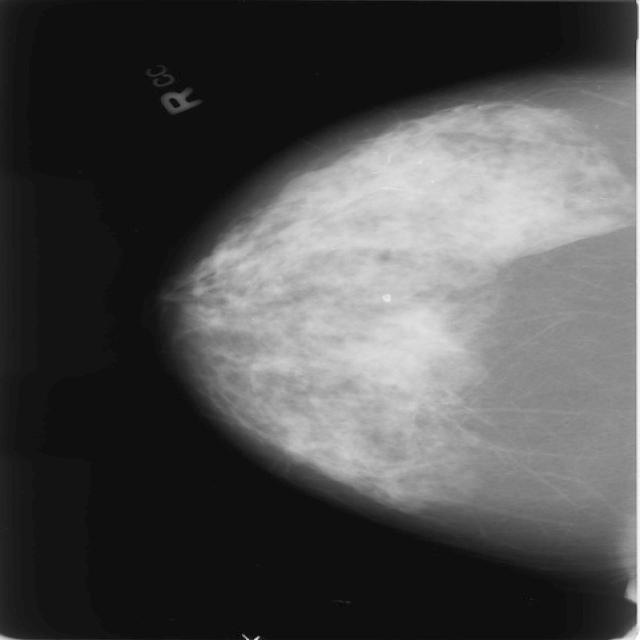tumour: (338, 303, 463, 391)
